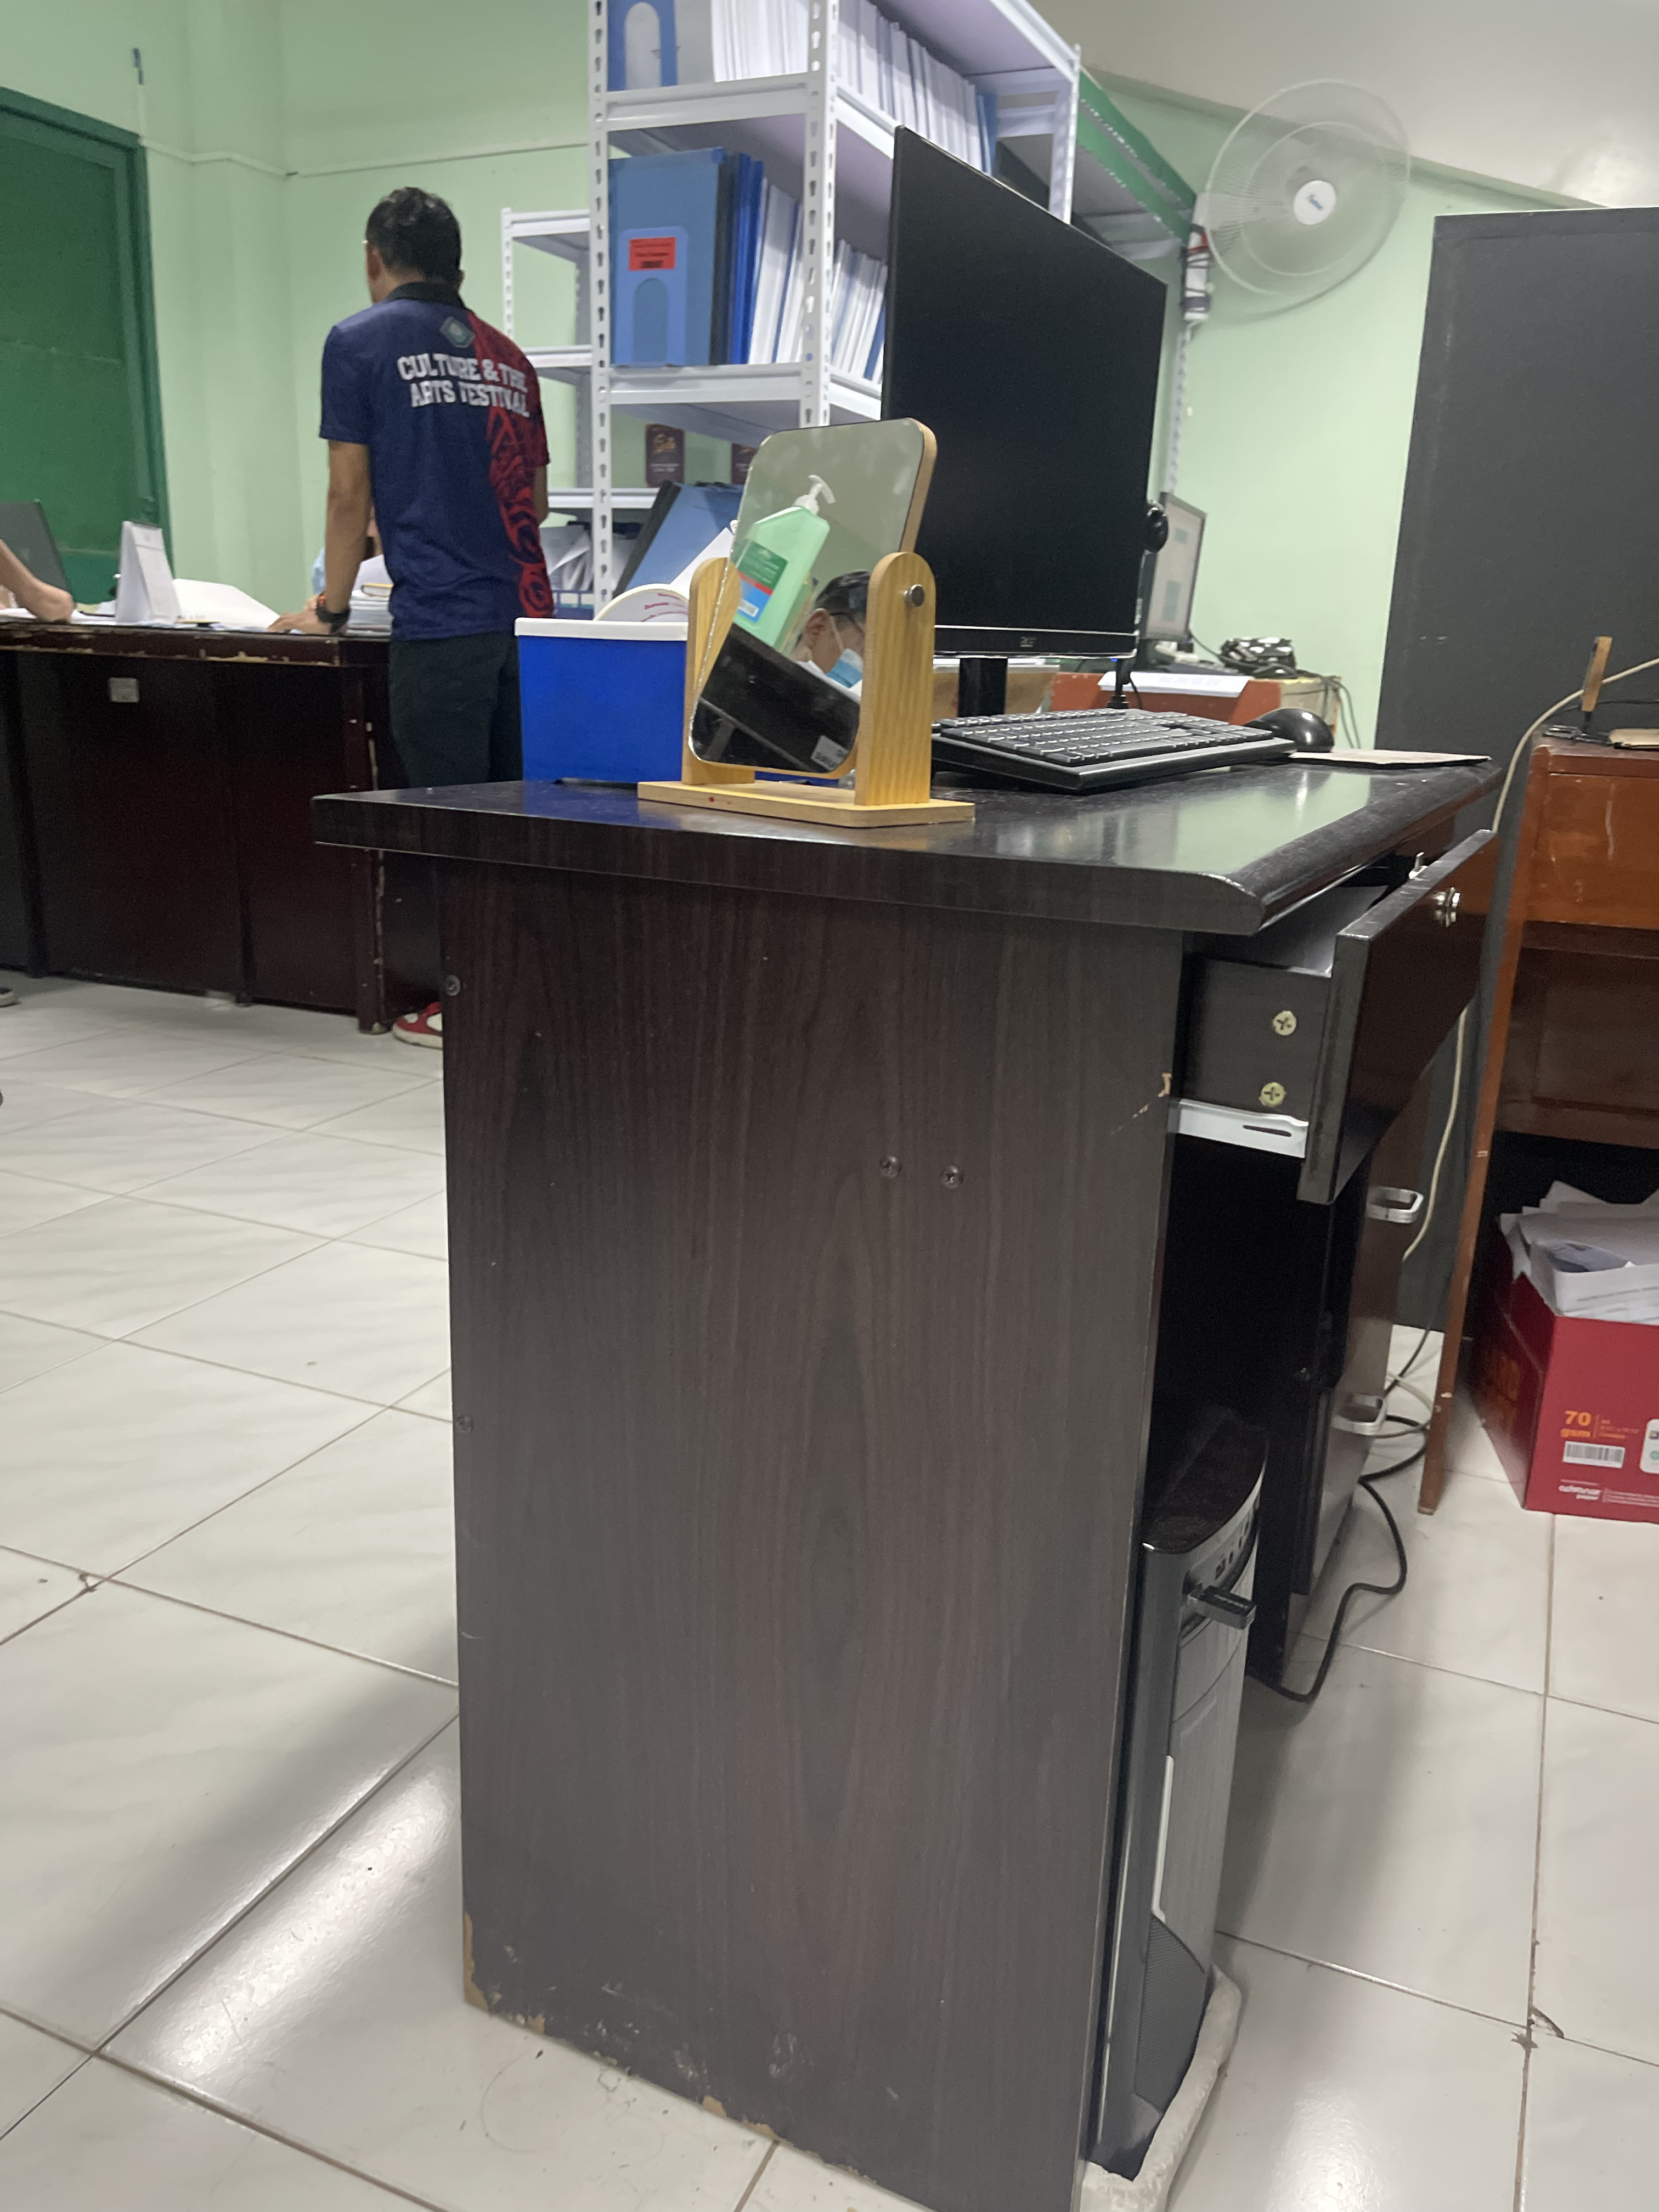table1: (300, 728, 1553, 2212)
